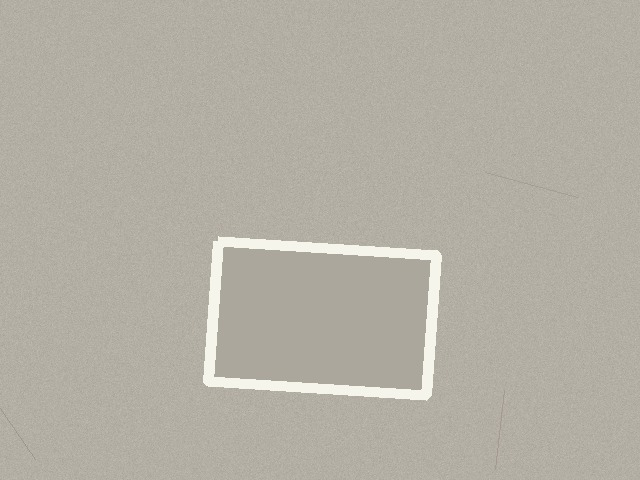parking_area: (208, 241, 436, 395)
